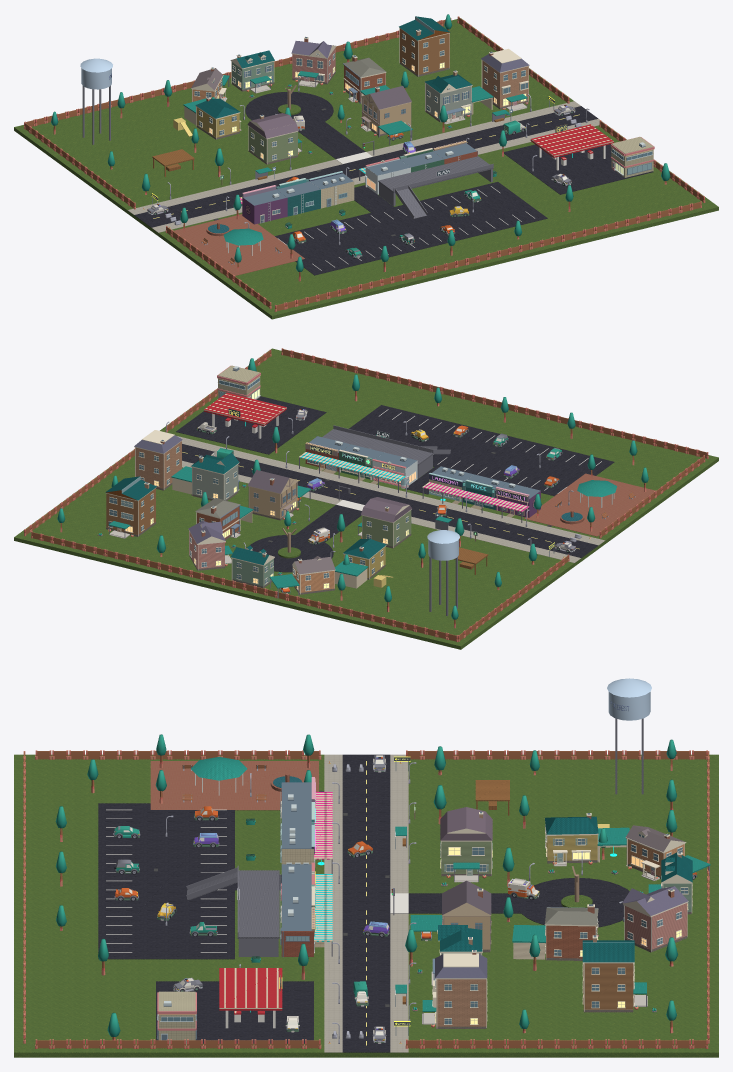
File: pinecrest.glb
3 views of the same model, one above another, from view 1: azimuth 30°, elevation 25°; view 2: azimuth 150°, elevation 25°; view 3: azimuth 270°, elevation 25° (orthographic). The views are drawn at different scales.
Parts seen in each view (by area): view 1: Mat_035_grass, Mat_030_asphalt, Mat_022_vcol_lit, Mat_029_colormap, Mat_024_vcol_lit, Mat_040_sidewalk, Mat_036_pavers, Mat_026_colormap, Mat_037_shingles_teal, Mat_038_shingles_teal, Mat_034_diamond_plate, Mat_033_canopy (+19 smaller); view 2: Mat_035_grass, Mat_030_asphalt, Mat_029_colormap, Mat_022_vcol_lit, Mat_040_sidewalk, Mat_024_vcol_lit, Mat_036_pavers, Mat_026_colormap, Mat_037_shingles_teal, Mat_038_shingles_teal, Mat_033_canopy, Mat_059_brick (+17 smaller); view 3: Mat_035_grass, Mat_030_asphalt, Mat_029_colormap, Mat_022_vcol_lit, Mat_040_sidewalk, Mat_036_pavers, Mat_024_vcol_lit, Mat_026_colormap, Mat_037_shingles_teal, Mat_038_shingles_teal, Mat_034_diamond_plate, Mat_033_canopy (+21 smaller).
Boxes of the visible parts, bbox=[...] form: Mat_035_grass: bbox=[14, 18, 718, 319]; Mat_030_asphalt: bbox=[134, 92, 653, 275]; Mat_022_vcol_lit: bbox=[191, 16, 654, 223]; Mat_029_colormap: bbox=[24, 14, 705, 311]; Mat_024_vcol_lit: bbox=[80, 58, 605, 270]; Mat_040_sidewalk: bbox=[127, 101, 604, 232]; Mat_036_pavers: bbox=[173, 214, 304, 275]; Mat_026_colormap: bbox=[147, 105, 575, 258]; Mat_037_shingles_teal: bbox=[195, 16, 472, 118]; Mat_038_shingles_teal: bbox=[183, 71, 527, 245]; Mat_034_diamond_plate: bbox=[378, 156, 493, 219]; Mat_033_canopy: bbox=[530, 124, 613, 160]; Mat_035_grass: bbox=[14, 348, 718, 649]; Mat_030_asphalt: bbox=[176, 396, 614, 572]; Mat_029_colormap: bbox=[24, 348, 708, 642]; Mat_022_vcol_lit: bbox=[106, 365, 540, 594]; Mat_040_sidewalk: bbox=[130, 436, 605, 562]; Mat_024_vcol_lit: bbox=[109, 409, 614, 616]; Mat_036_pavers: bbox=[524, 473, 655, 536]; Mat_026_colormap: bbox=[196, 409, 575, 593]; Mat_037_shingles_teal: bbox=[105, 453, 386, 564]; Mat_038_shingles_teal: bbox=[109, 466, 616, 588]; Mat_033_canopy: bbox=[204, 392, 286, 427]; Mat_059_brick: bbox=[135, 441, 181, 488]; Mat_035_grass: bbox=[14, 754, 718, 1057]; Mat_030_asphalt: bbox=[98, 754, 629, 1052]; Mat_029_colormap: bbox=[23, 734, 709, 1048]; Mat_022_vcol_lit: bbox=[157, 777, 692, 1040]; Mat_040_sidewalk: bbox=[324, 754, 408, 1052]; Mat_036_pavers: bbox=[150, 761, 318, 810]; Mat_024_vcol_lit: bbox=[106, 678, 709, 1045]; Mat_026_colormap: bbox=[113, 755, 697, 1043]; Mat_037_shingles_teal: bbox=[438, 816, 692, 962]; Mat_038_shingles_teal: bbox=[191, 756, 710, 1011]; Mat_034_diamond_plate: bbox=[187, 870, 279, 938]; Mat_033_canopy: bbox=[219, 968, 282, 1014].
Bounding box in the file's own units: 134 × 24 × 134.
Materials: 74 (48 with a texture image).
